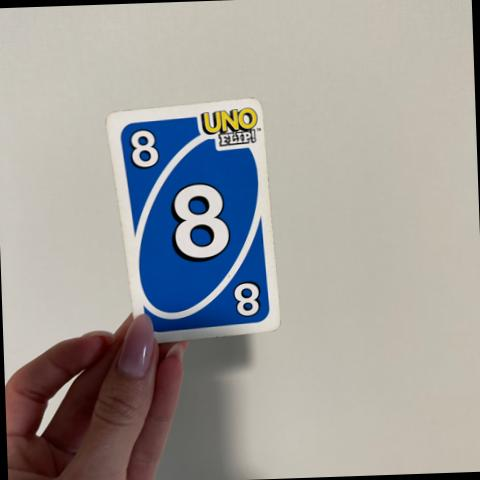lblue-8: (116, 115, 170, 179)
